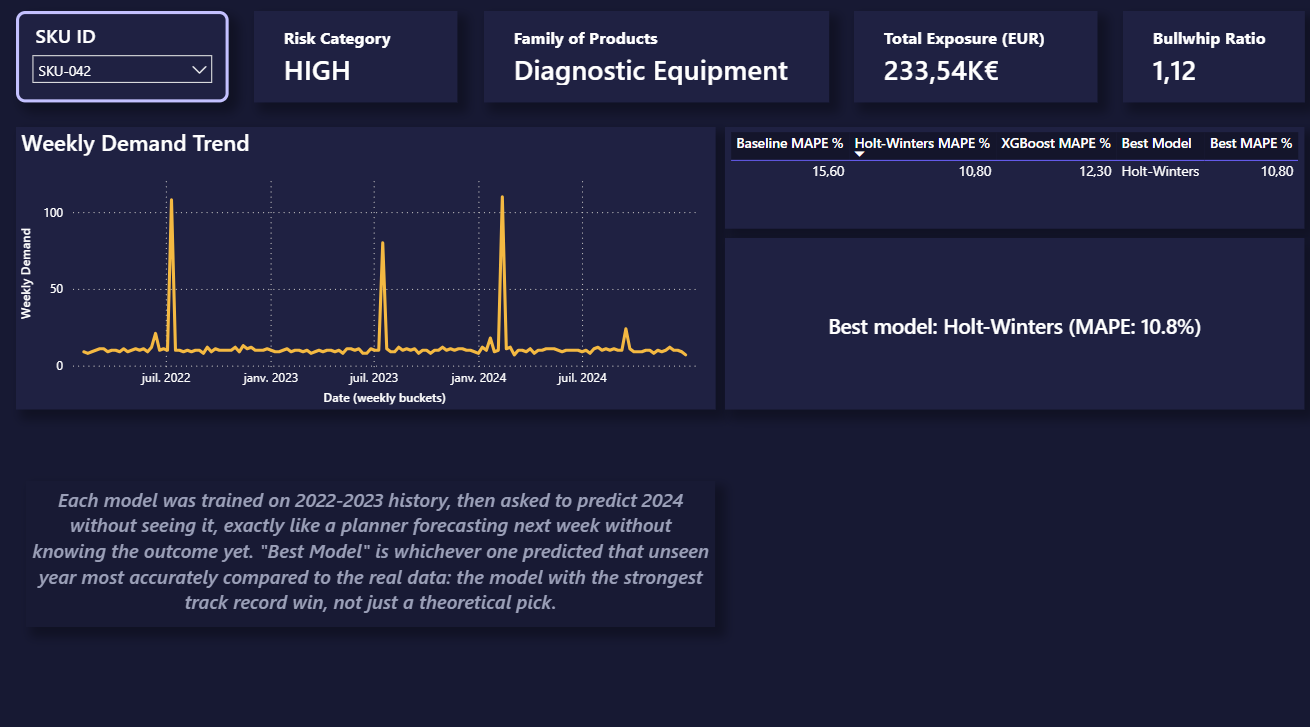

This screenshot's page, from the dashboard's own definition file:
{"tool":"powerbi","page":{"name":"SKU Drill-Down","canvas":[1280,720],"ordinal":1},"visuals":[{"type":"slicer","fields":{"Values":["financial_impact.sku_id"]},"box":[17.5,14.6,207.2,89.5],"z":0},{"type":"cardVisual","fields":{"Data":["Sum(financial_impact.total_exposure_eur)"]},"box":[833.1,14.6,237.3,89.5],"z":1000},{"type":"cardVisual","fields":{"Data":["Sum(financial_impact.bullwhip_ratio)"]},"box":[1095.2,14.6,177,89.5],"z":2000},{"type":"cardVisual","fields":{"Data":["Min(financial_impact.risk_category)"]},"box":[249.5,14.6,198.4,89.5],"z":3000},{"type":"cardVisual","fields":{"Data":["Min(financial_impact.family)"]},"box":[472.7,14.6,335.6,89.5],"z":4000},{"type":"lineChart","title":"Weekly Demand Trend","fields":{"Y":["Sum(outlier_detection.actual_demand)"],"Category":["outlier_detection.week"]},"box":[17.5,127.4,680.9,275.3],"z":5000},{"type":"tableEx","fields":{"Values":["Sum(model_comparison.mape_baseline)","Sum(model_comparison.mape_hw)","Sum(model_comparison.mape_xgb)","model_comparison.best_model","Sum(model_comparison.best_mape)"]},"box":[708.1,127.4,564.1,99.2],"z":6000},{"type":"cardVisual","fields":{"Data":["model_comparison.Model Comparison Status"]},"box":[708.1,235.4,564.1,167.3],"z":7000},{"type":"textbox","box":[27.2,471.7,671.1,142],"z":8000}]}

Visuals, with their boxes in screenshot pixels (x1, y1, x2, y2), scaled from the page's 1280x720 canvas onto the 1310x727 screenshot:
slicer - financial_impact.sku_id: bbox=(18, 15, 230, 105)
cardVisual - Sum(financial_impact.total_exposure_eur): bbox=(853, 15, 1095, 105)
cardVisual - Sum(financial_impact.bullwhip_ratio): bbox=(1121, 15, 1302, 105)
cardVisual - Min(financial_impact.risk_category): bbox=(255, 15, 458, 105)
cardVisual - Min(financial_impact.family): bbox=(484, 15, 827, 105)
"Weekly Demand Trend" lineChart: bbox=(18, 129, 715, 407)
tableEx - Sum(model_comparison.mape_baseline) x Sum(model_comparison.mape_hw): bbox=(725, 129, 1302, 229)
cardVisual - model_comparison.Model Comparison Status: bbox=(725, 238, 1302, 407)
textbox: bbox=(28, 476, 715, 620)
